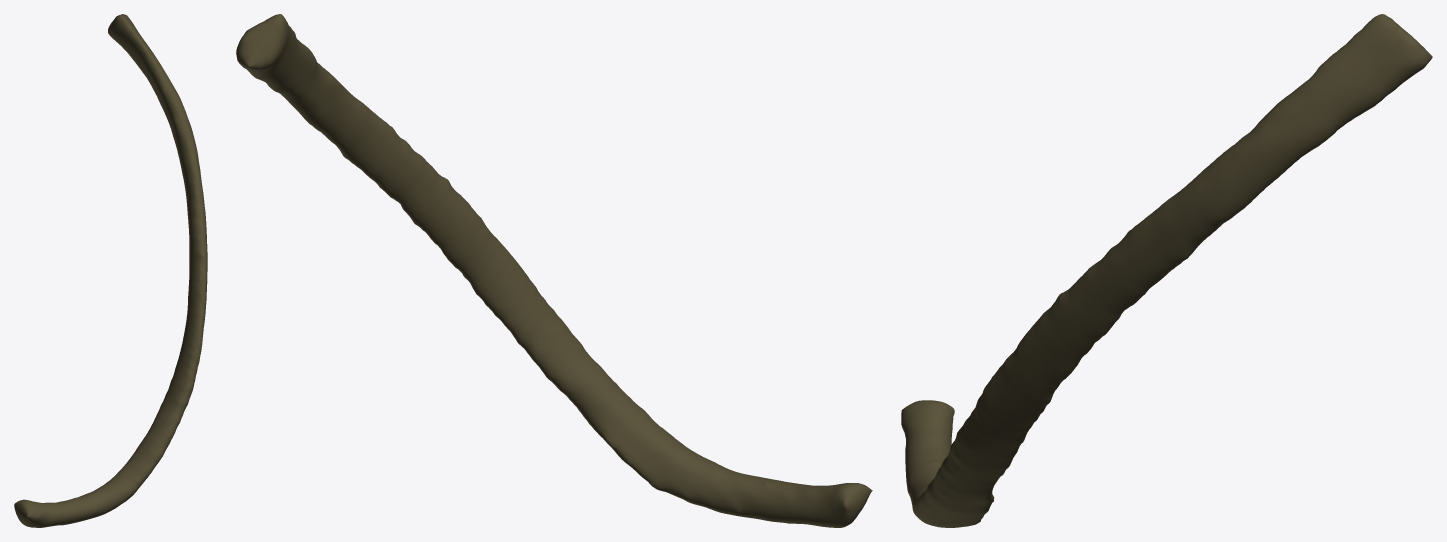
Rendered from segmentations_rib_right_8.obj.
The picture shows the model from 3 angles, left to right: view 1: azimuth 30°, elevation 25°; view 2: azimuth 150°, elevation 25°; view 3: azimuth 270°, elevation 25°; orthographic projection. The views are drawn at different scales.
Visible parts, largest first — view 1: grp1; view 2: grp1; view 3: grp1.
Part boxes in pixels (bbox=[...]): grp1: bbox=[14, 14, 207, 527]; grp1: bbox=[236, 14, 872, 527]; grp1: bbox=[901, 14, 1432, 527].
Bounding box in the file's own units: 75.57 × 102 × 77.91.
